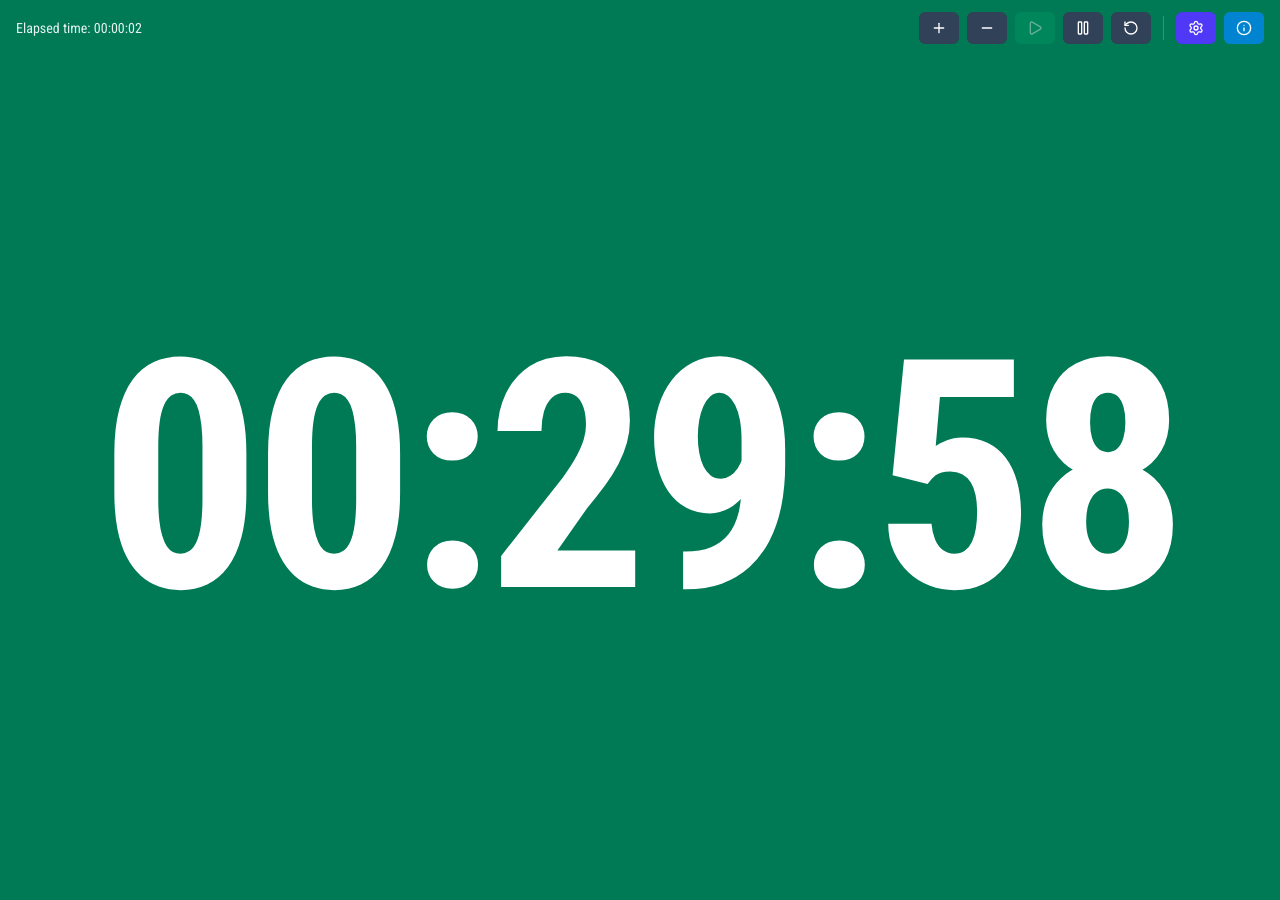
App › opens credits and closes with footer button
The image size is (1280, 900).
Click the button with test id "credits-button". click: (1244, 28)
box: [1224, 12, 1264, 44]
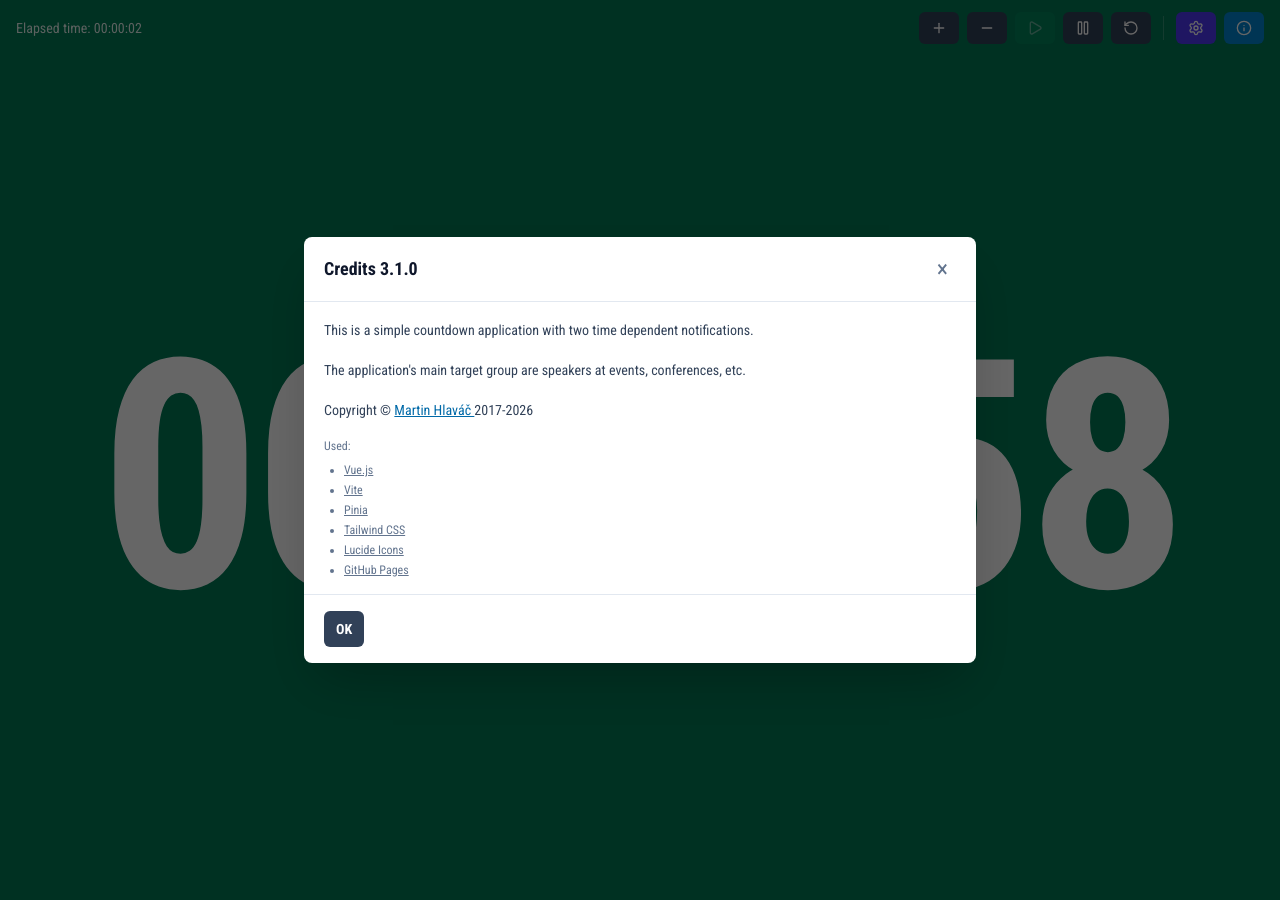
Expected: the text "Credits 3.1.0" is shown, [324, 255, 418, 283]
Click the button "OK". click: (344, 629)
box: [324, 611, 364, 647]
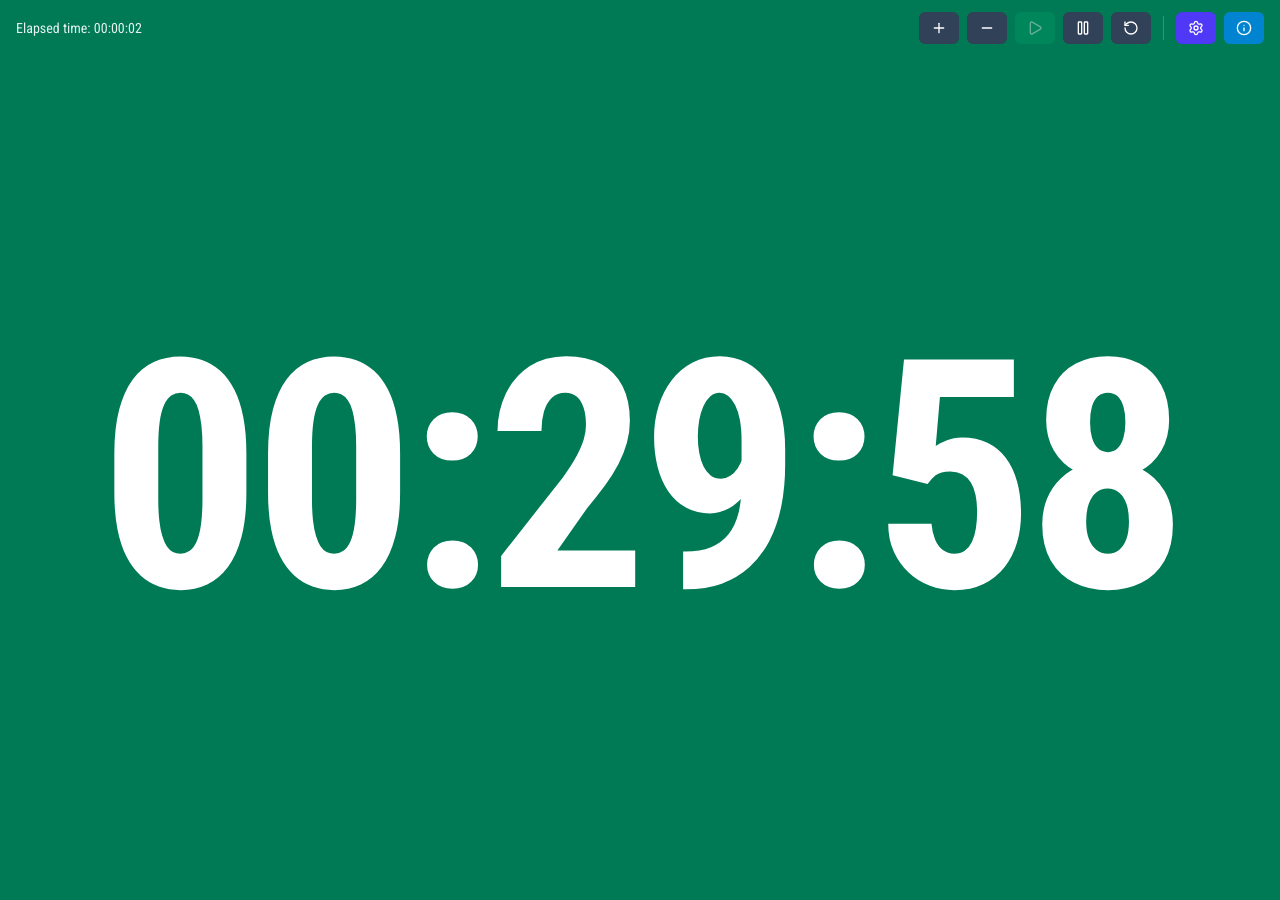
Expected: the text "Credits 3.1.0" is gone
